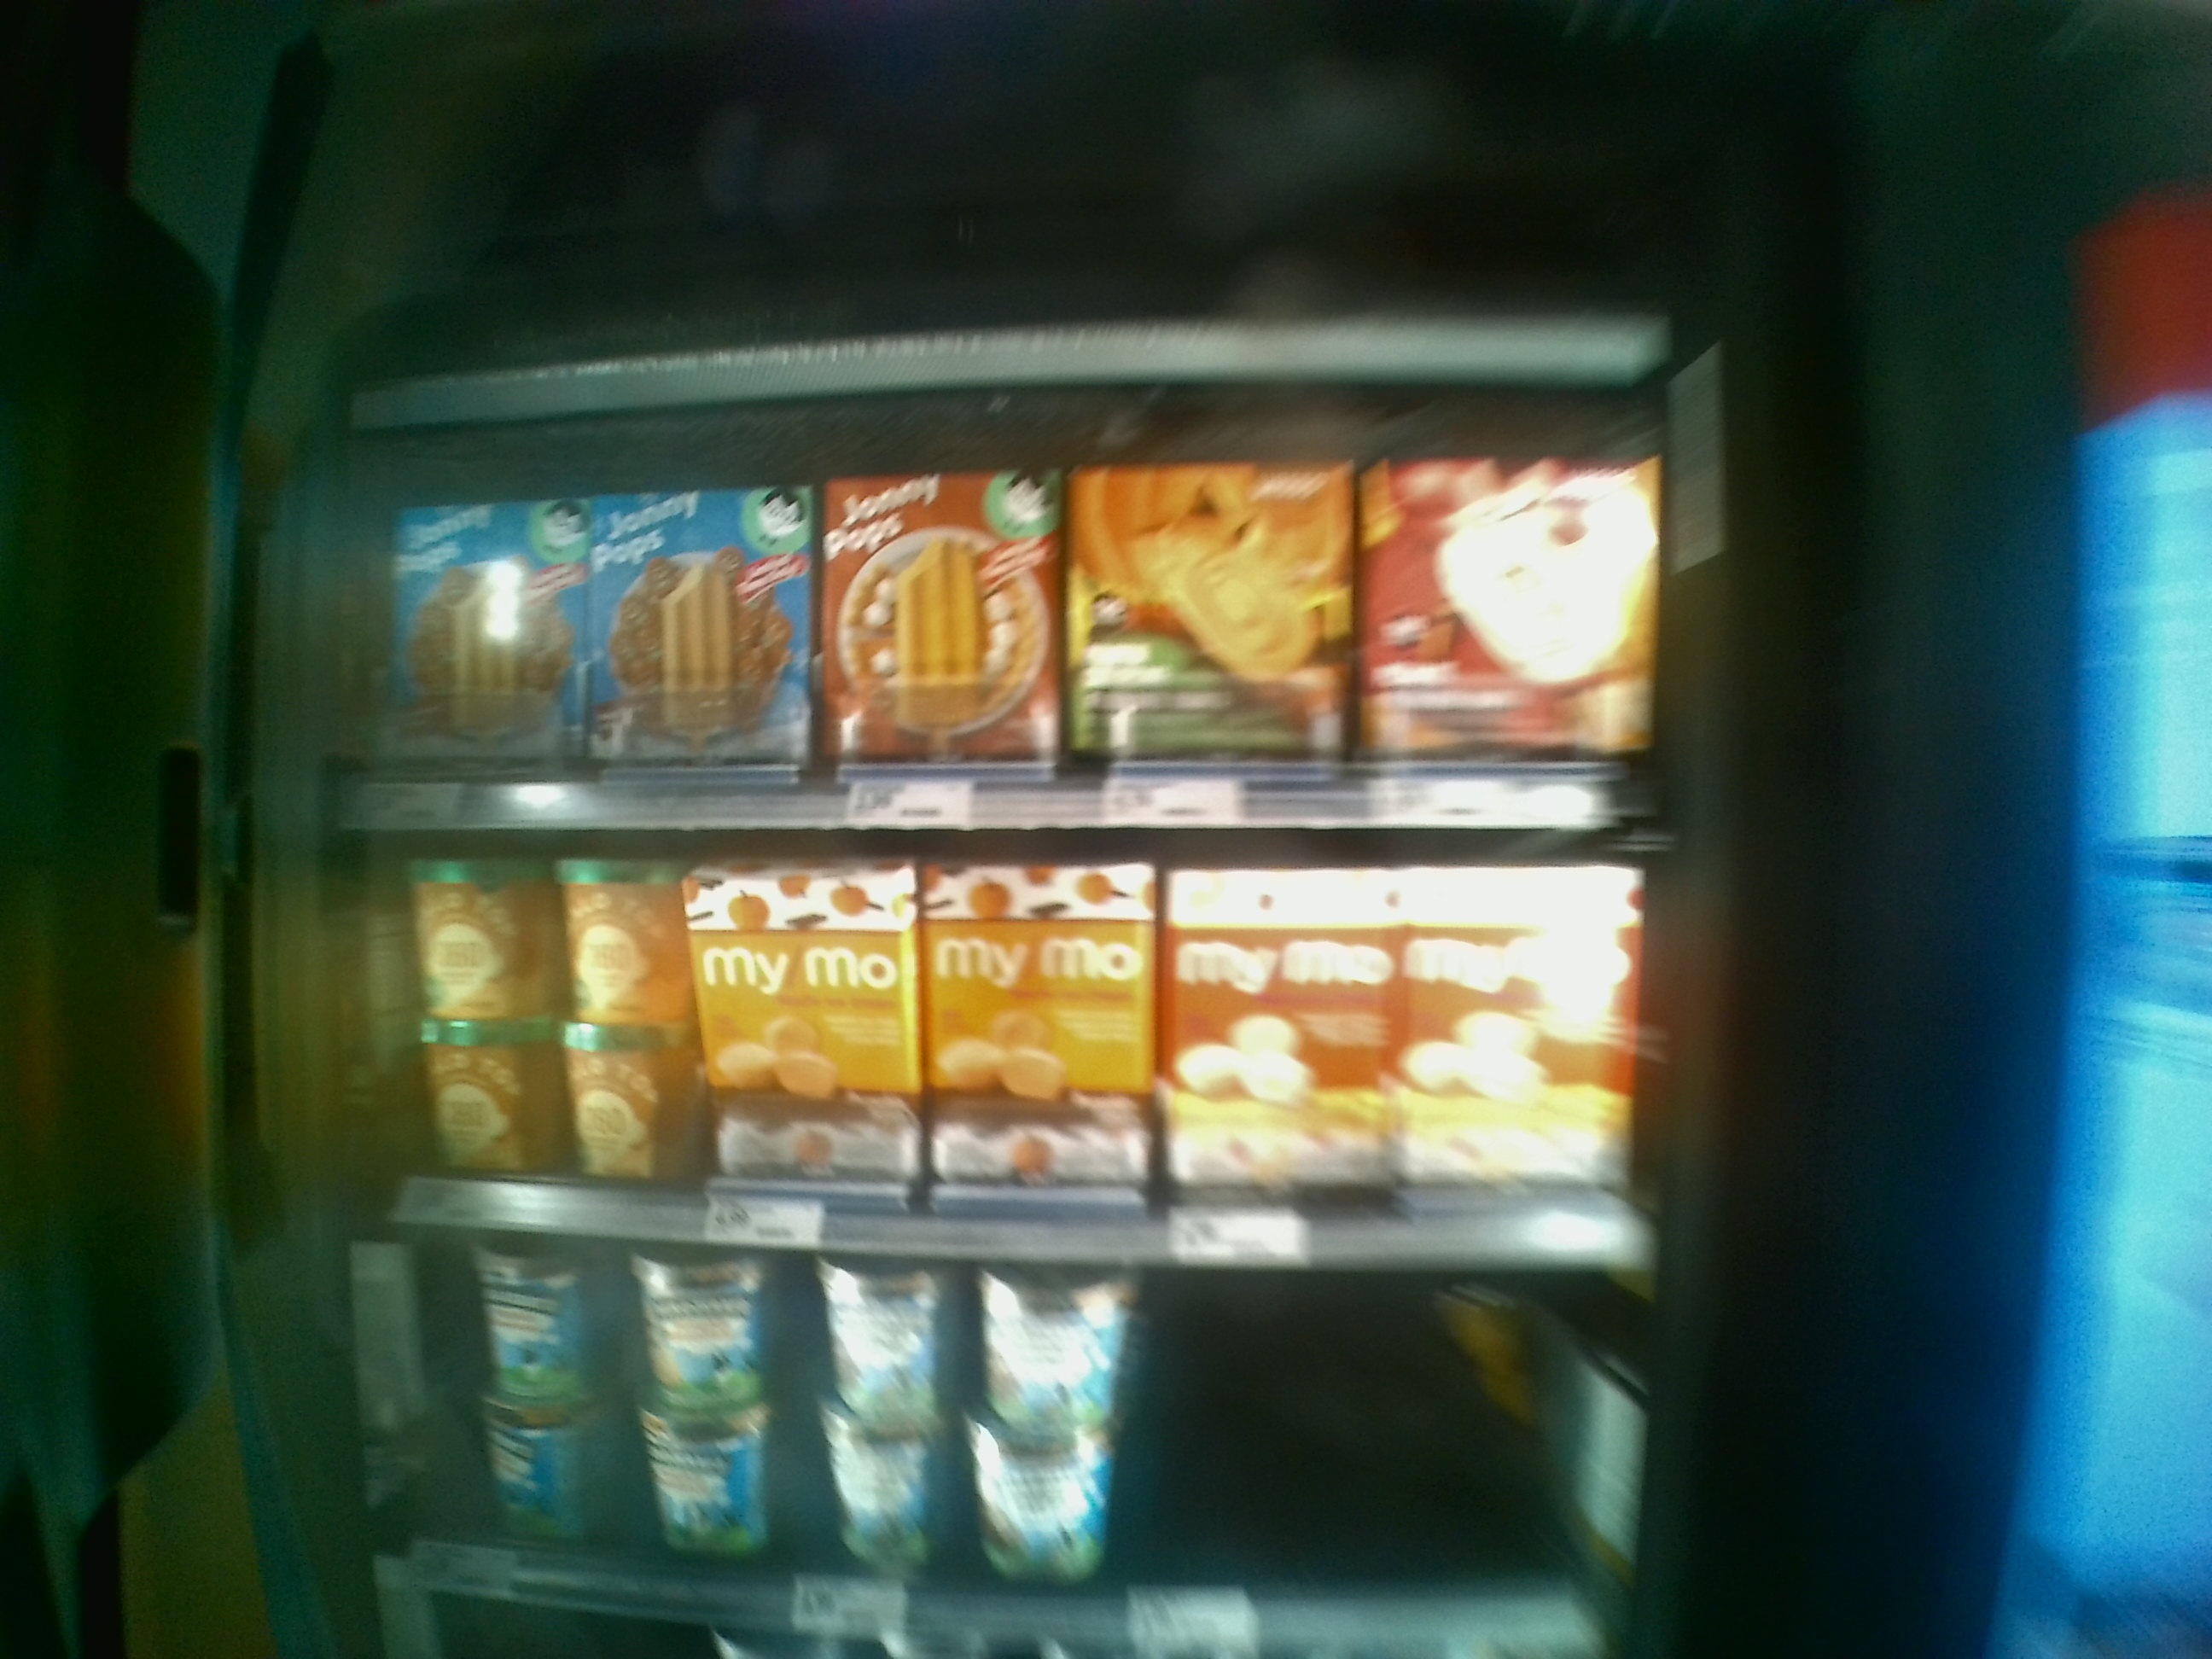shelf: (322, 821, 1669, 1272), (322, 394, 1684, 828), (307, 1286, 1674, 1650)
